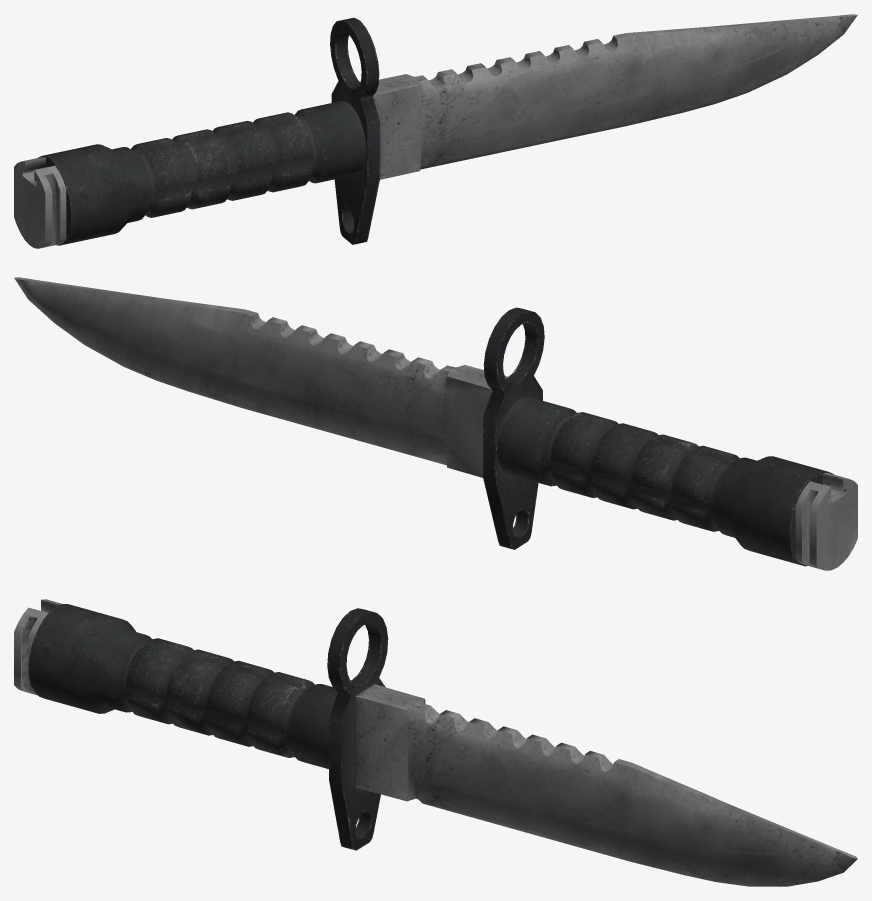
File: knife-blood.glb
3 renders of one model, top to bottom at view 1: azimuth 30°, elevation 25°; view 2: azimuth 150°, elevation 25°; view 3: azimuth 330°, elevation 25°, orthographic. The views are drawn at different scales.
Visible parts, largest first — view 1: M9_M9_0; view 2: M9_M9_0; view 3: M9_M9_0.
Part boxes in pixels (bbox=[...]): M9_M9_0: bbox=[14, 14, 857, 248]; M9_M9_0: bbox=[14, 277, 857, 570]; M9_M9_0: bbox=[14, 599, 857, 886].
Bounding box in the file's own units: 1.05 × 0.2711 × 0.1217.
Materials: 1 (1 with a texture image).
